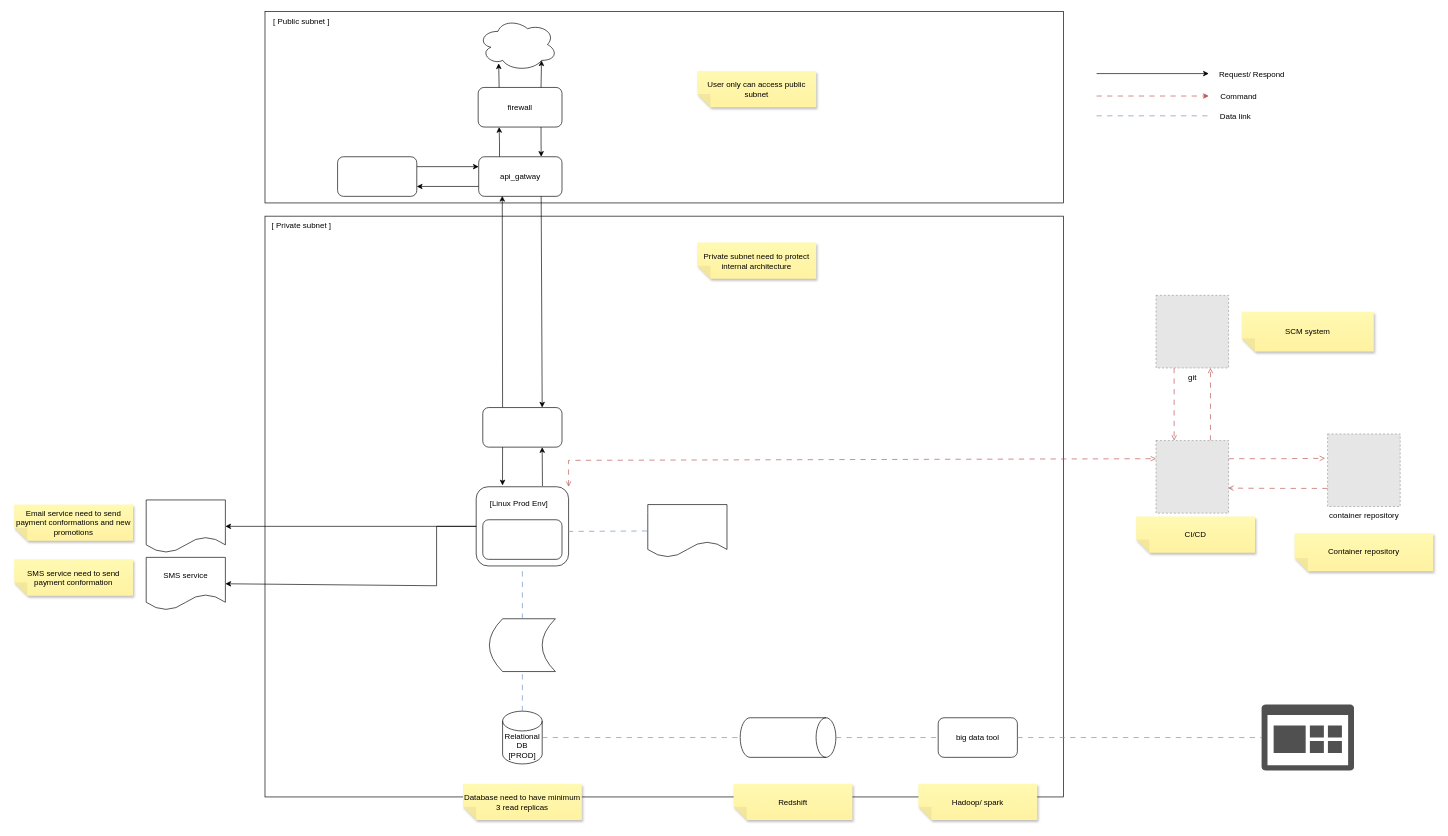
The diagram is 1448 pixels wide and 836 high, and some of its shapes have lost their labels. Grey dashed boxes stand in for pictures. Each missing label, with the centre of its shape:
"authentication service" belongs at [377,176].
"CDN" belongs at [517,44].
"Data visualize dashboard" belongs at [1307,737].
"Data warehouse" belongs at [788,737].
"Email service" belongs at [185,526].
"External Media files" belongs at [687,530].
"Load Balancer" belongs at [522,427].
"prod cache" belongs at [522,645].
"web service" belongs at [522,539].
